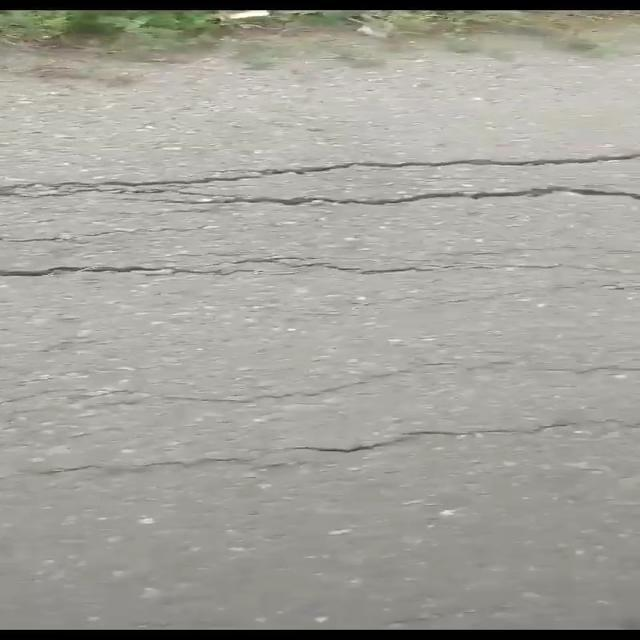Melintang: (0, 137, 640, 222), (19, 402, 640, 485)
